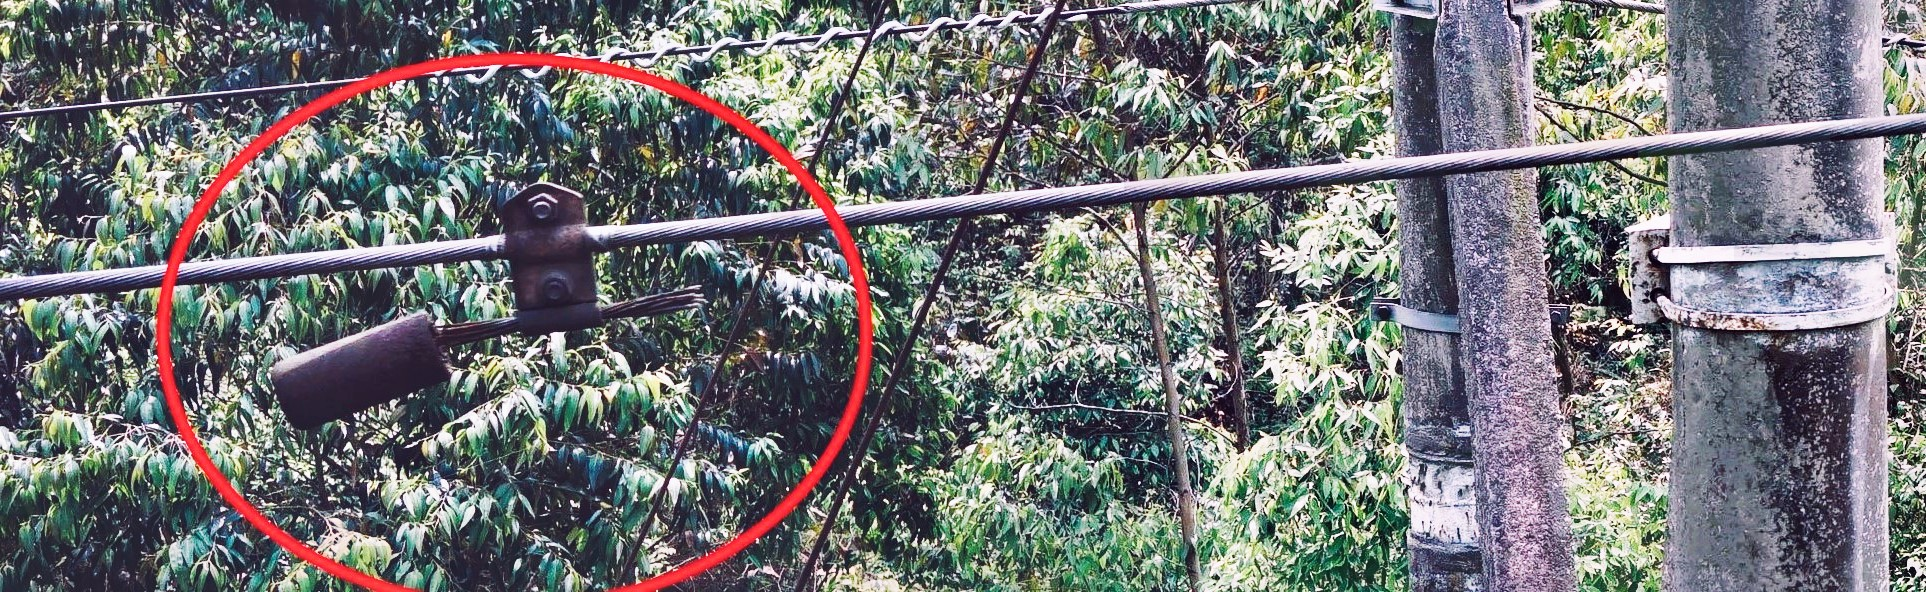Damage of shockproof hammer: (267, 171, 717, 437)
